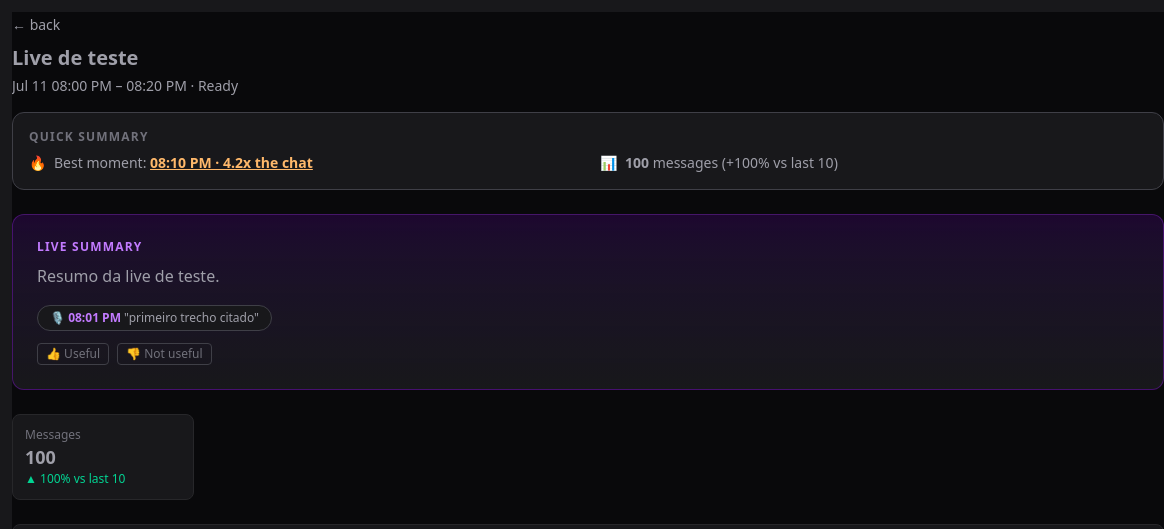
Test case: StreamReport › renderiza resumo, números e chips de evidência
Expected: the text "Resumo da live de teste." is shown, [37, 265, 220, 287]
Click the button "🎙 08:01 PM \"primeiro trecho citado\"".
click(154, 318)  # box [37, 305, 272, 331]
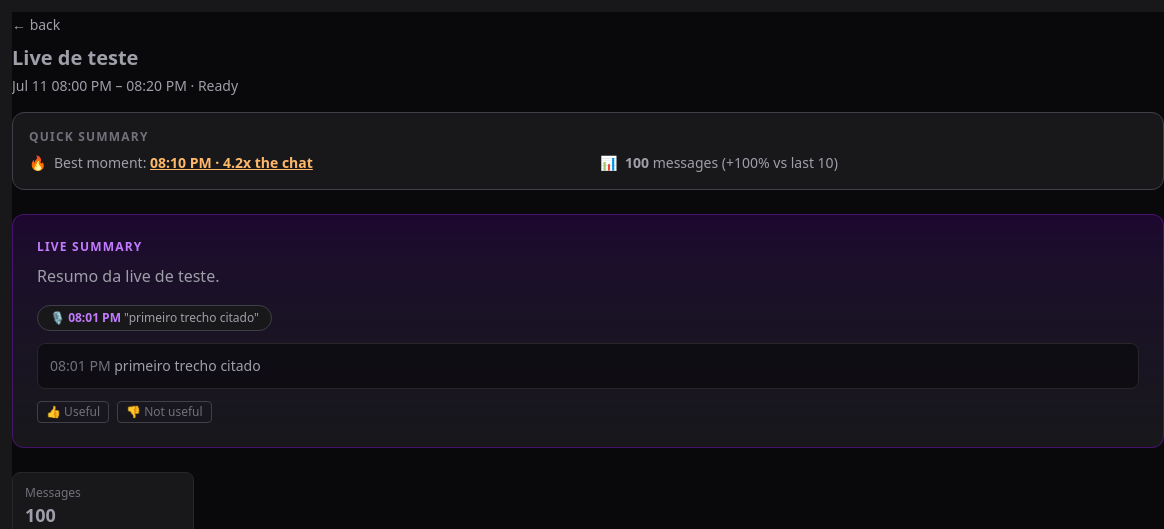
Expected: the text "primeiro trecho citado" is shown, [114, 356, 261, 375]
